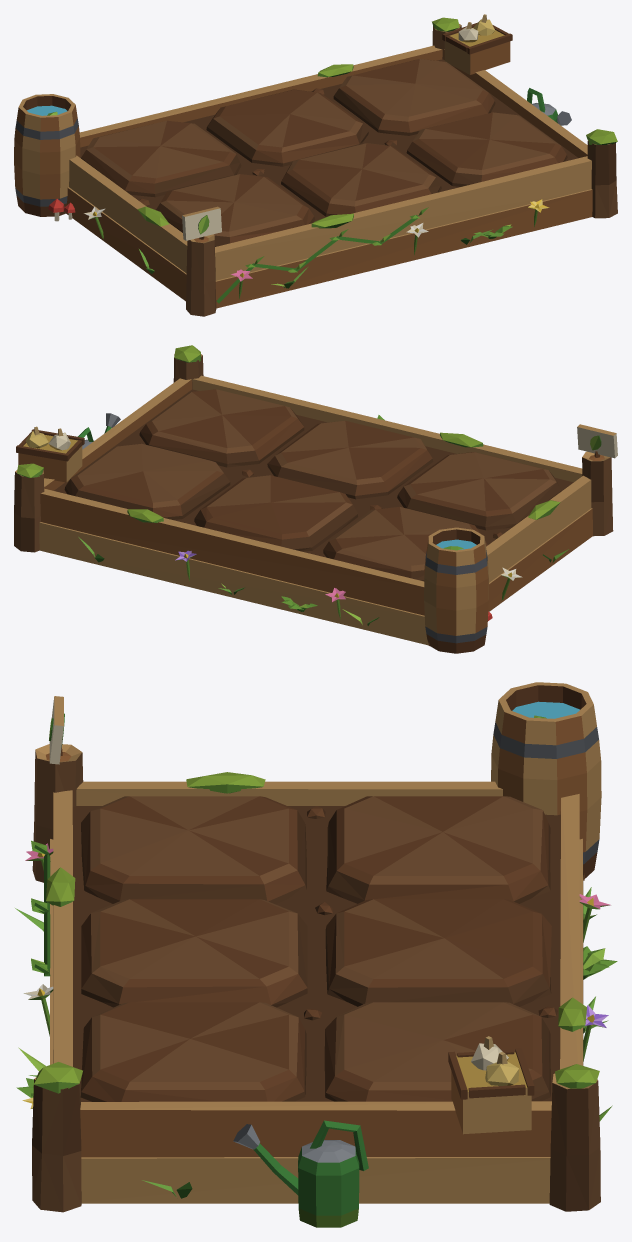
File: garden_bed.glb
3 views of the same model, one above another, from view 1: azimuth 30°, elevation 25°; view 2: azimuth 150°, elevation 25°; view 3: azimuth 270°, elevation 25° (orthographic). The views are drawn at different scales.
Parts seen in each view (by area): view 1: garden_bed; view 2: garden_bed; view 3: garden_bed.
Boxes of the visible parts, x1,y1,x2,y2 form: garden_bed: (14,14,617,316); garden_bed: (14,345,617,653); garden_bed: (15,682,617,1227).
Size of the model in its own units: 2.23 by 0.45 by 1.49.
